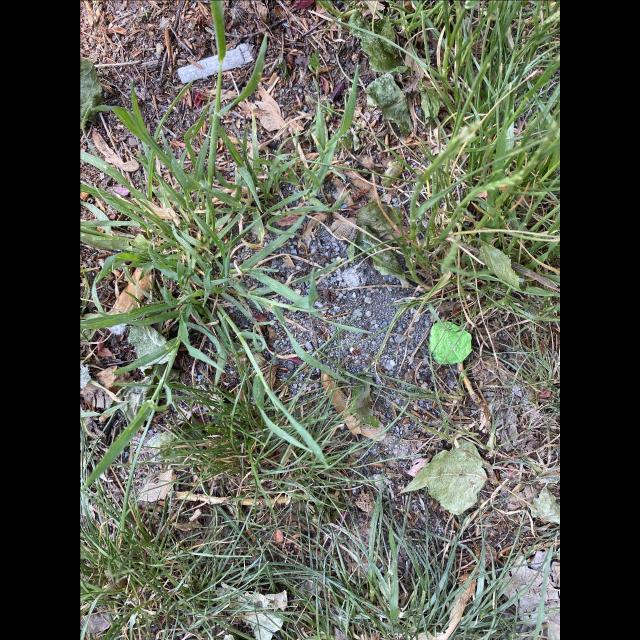cigarette: (105, 264, 154, 336), (177, 42, 254, 85)
